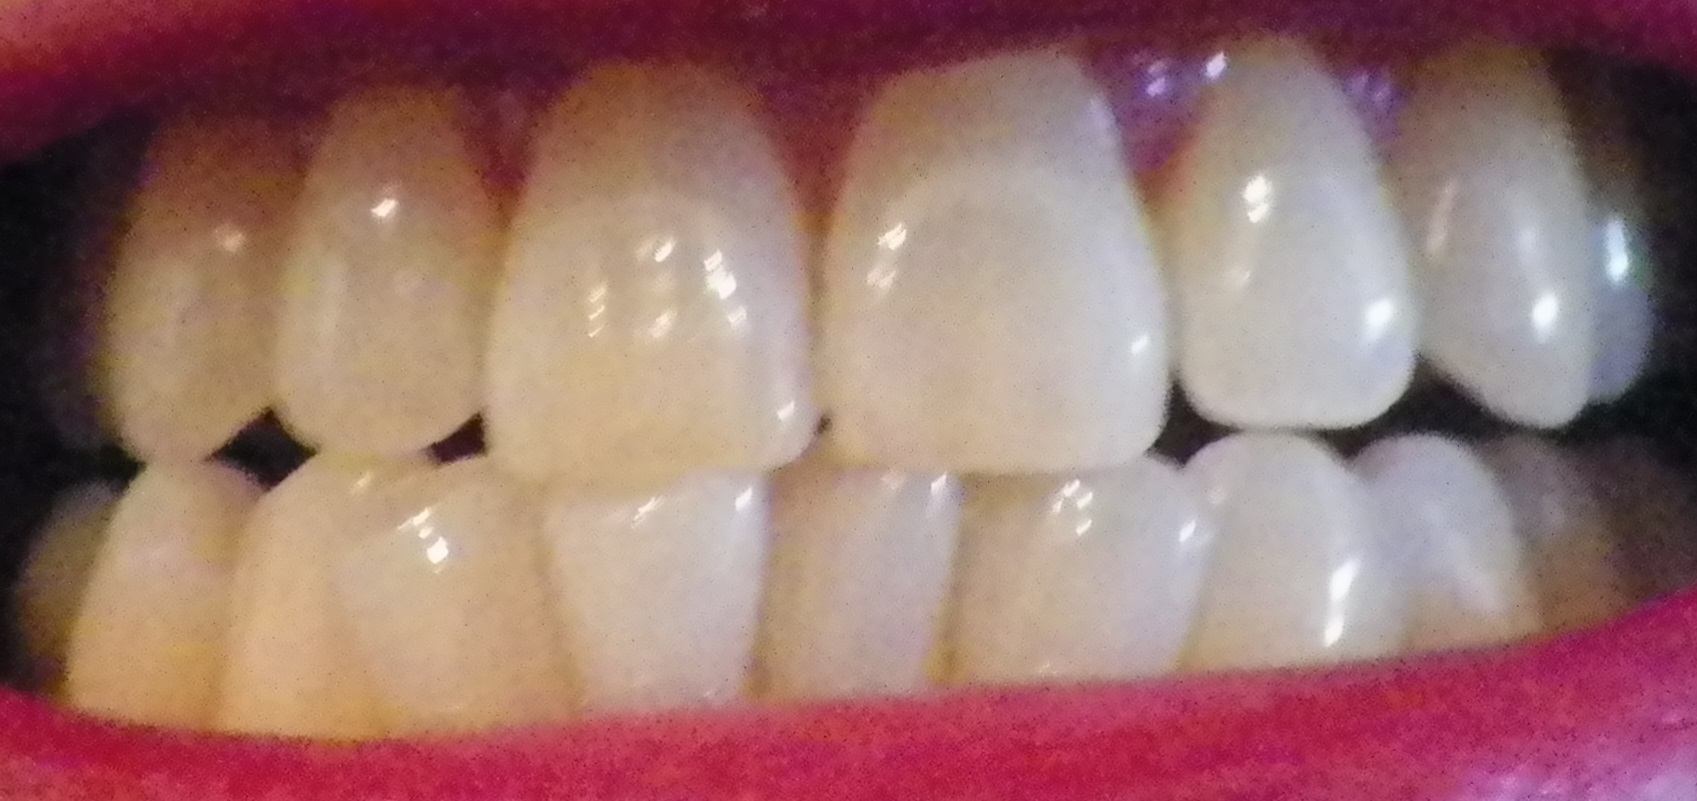boca: (50, 52, 1687, 732)
